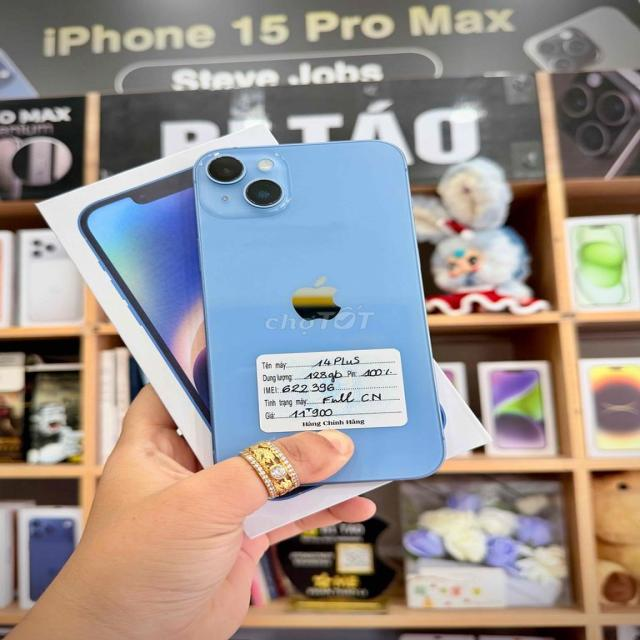gen_14: (194, 136, 454, 492)
